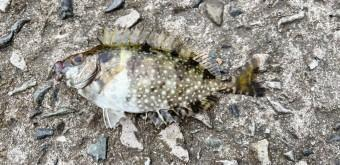fish: (54, 27, 266, 127)
